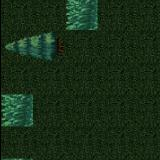Obstacle: (33, 29, 65, 62)
Slow: (0, 95, 32, 126), (66, 0, 97, 30)
